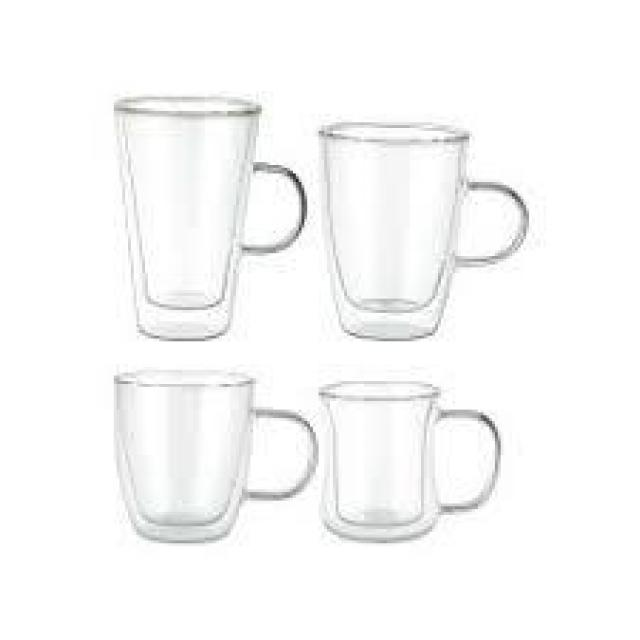non-organic waste: (110, 94, 308, 344), (320, 121, 530, 343), (112, 366, 320, 548), (316, 378, 503, 546)
